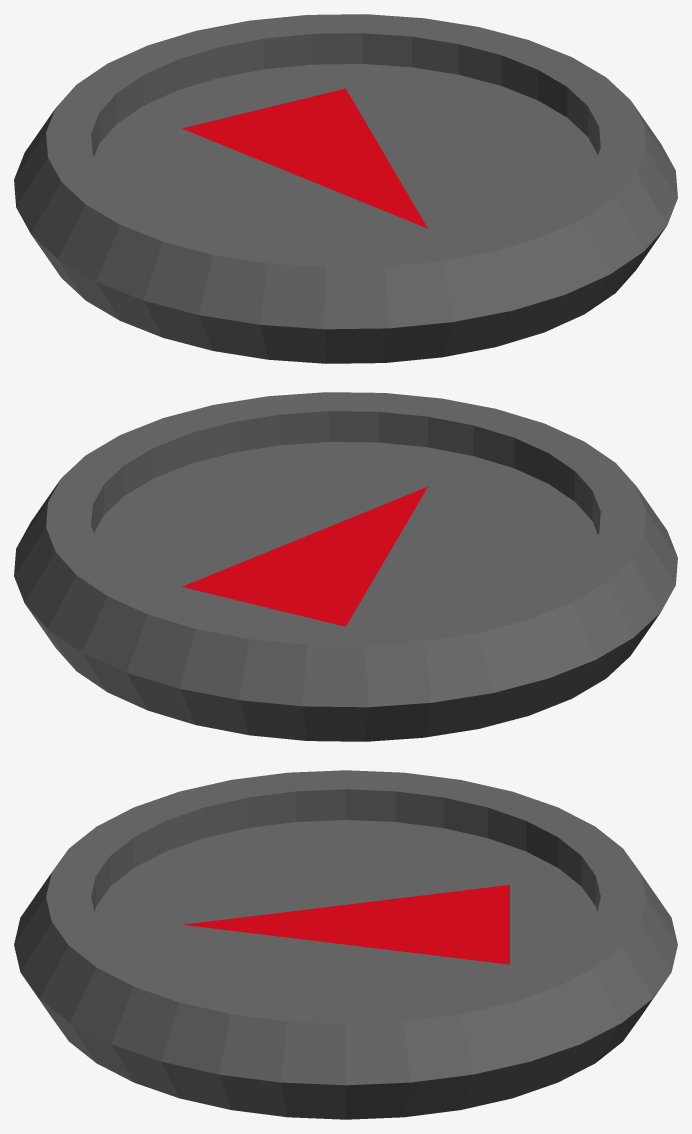
Rendered from Compass.fbx.
3 renders of one model, top to bottom at view 1: azimuth 30°, elevation 25°; view 2: azimuth 150°, elevation 25°; view 3: azimuth 270°, elevation 25°, orthographic.
Visible parts, largest first — view 1: Base, Pin; view 2: Base, Pin; view 3: Base, Pin.
Part boxes in pixels (box(x1,y1,x2,y2)): Base: box(14, 14, 677, 363); Pin: box(182, 88, 427, 228); Base: box(14, 392, 677, 741); Pin: box(182, 486, 427, 626); Base: box(14, 770, 677, 1119); Pin: box(183, 885, 509, 964).
Bounding box in the file's own units: 221 × 35.3 × 221.
